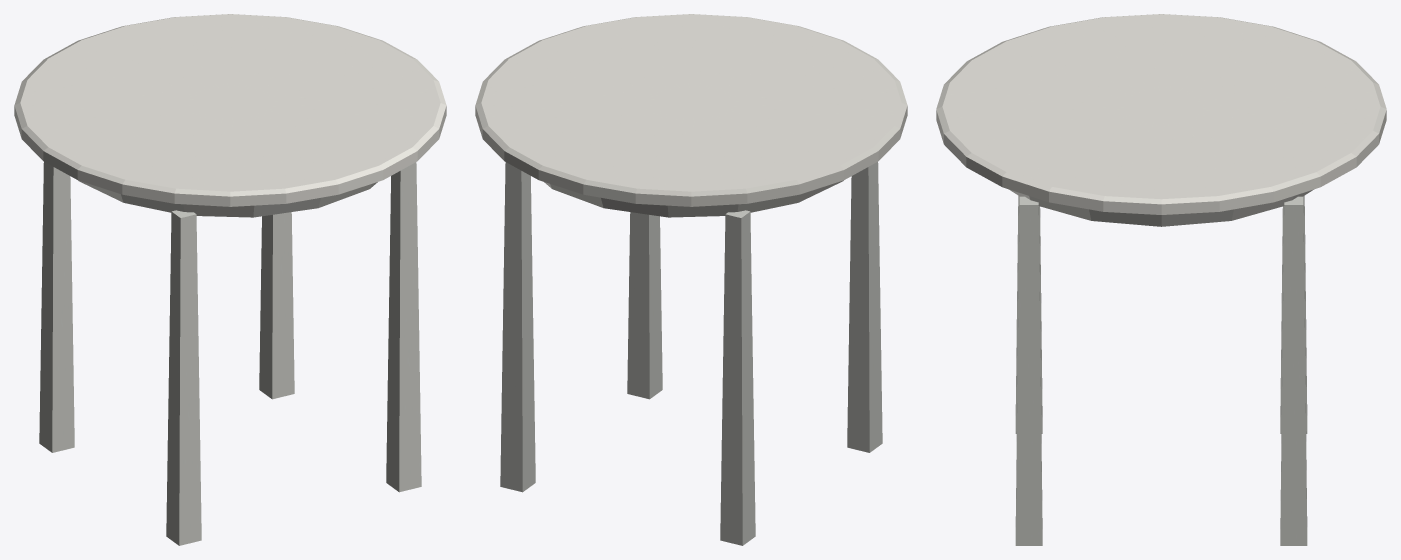
File: pool_table.glb
The picture shows the model from 3 angles, left to right: view 1: azimuth 30°, elevation 25°; view 2: azimuth 150°, elevation 25°; view 3: azimuth 270°, elevation 25°; orthographic projection. The views are drawn at different scales.
Parts seen in each view (by area): view 1: core_pool_table; view 2: core_pool_table; view 3: core_pool_table.
Boxes of the visible parts, x1,y1,x2,y2 form: core_pool_table: (14, 14, 446, 545); core_pool_table: (475, 14, 907, 545); core_pool_table: (936, 14, 1386, 545).
Size of the model in its own units: 0.8 by 0.74 by 0.8.
Materials: 1 (1 with a texture image).
